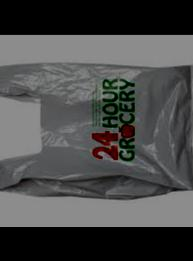Plastic: (0, 55, 192, 202)
